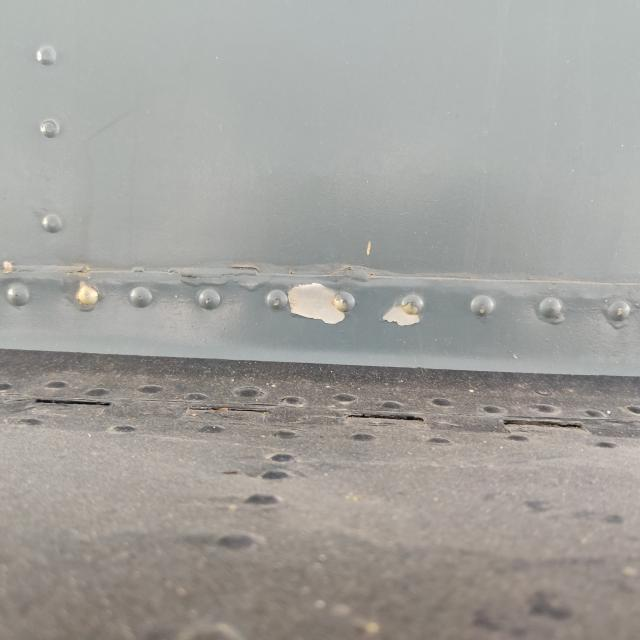paint-off: (271, 271, 363, 337), (375, 288, 429, 335)
